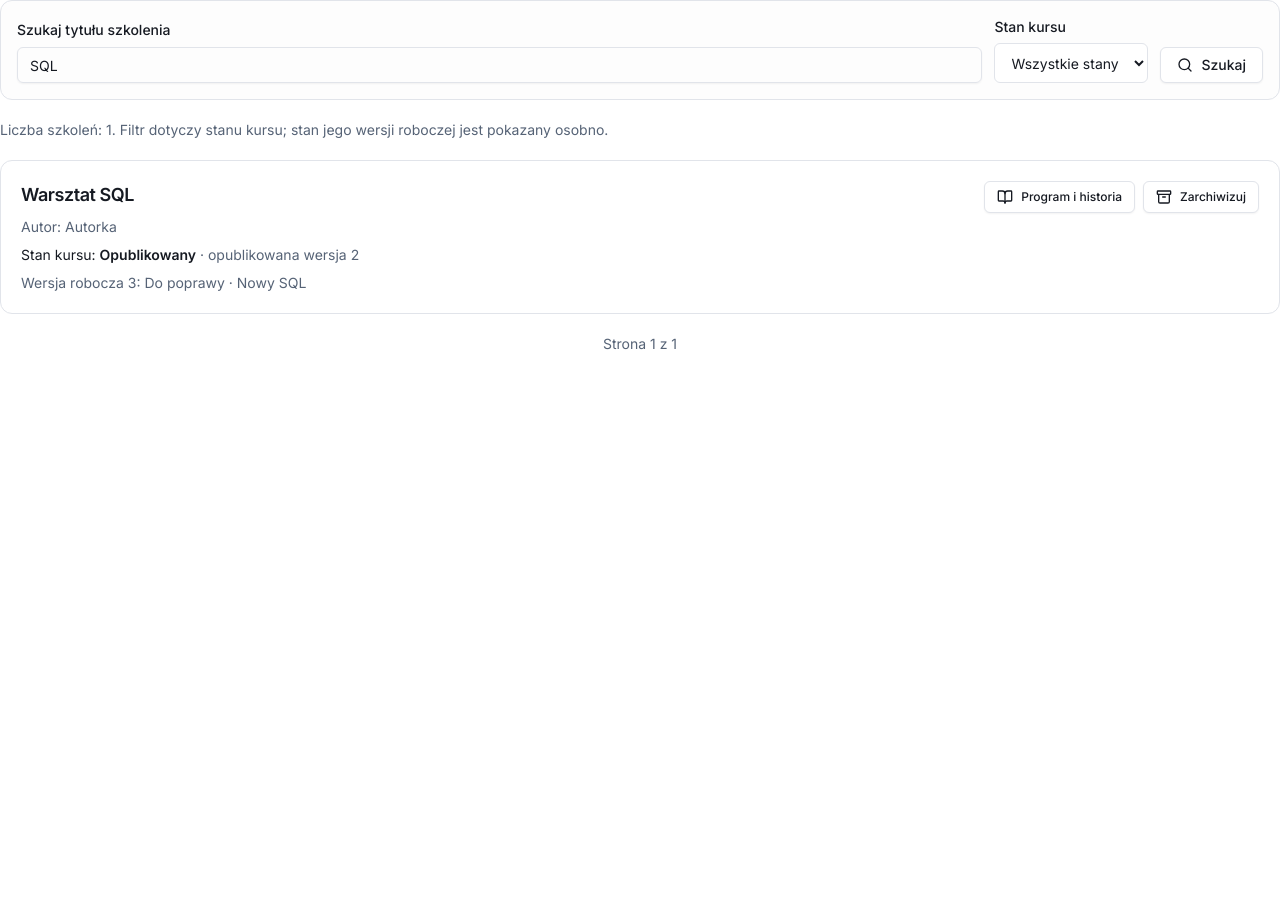
it: administrator course inventory › retains the course and surfaces rejected archive attempts
Click the button "Zarchiwizuj" at [1201, 197], box [1143,181,1259,213]
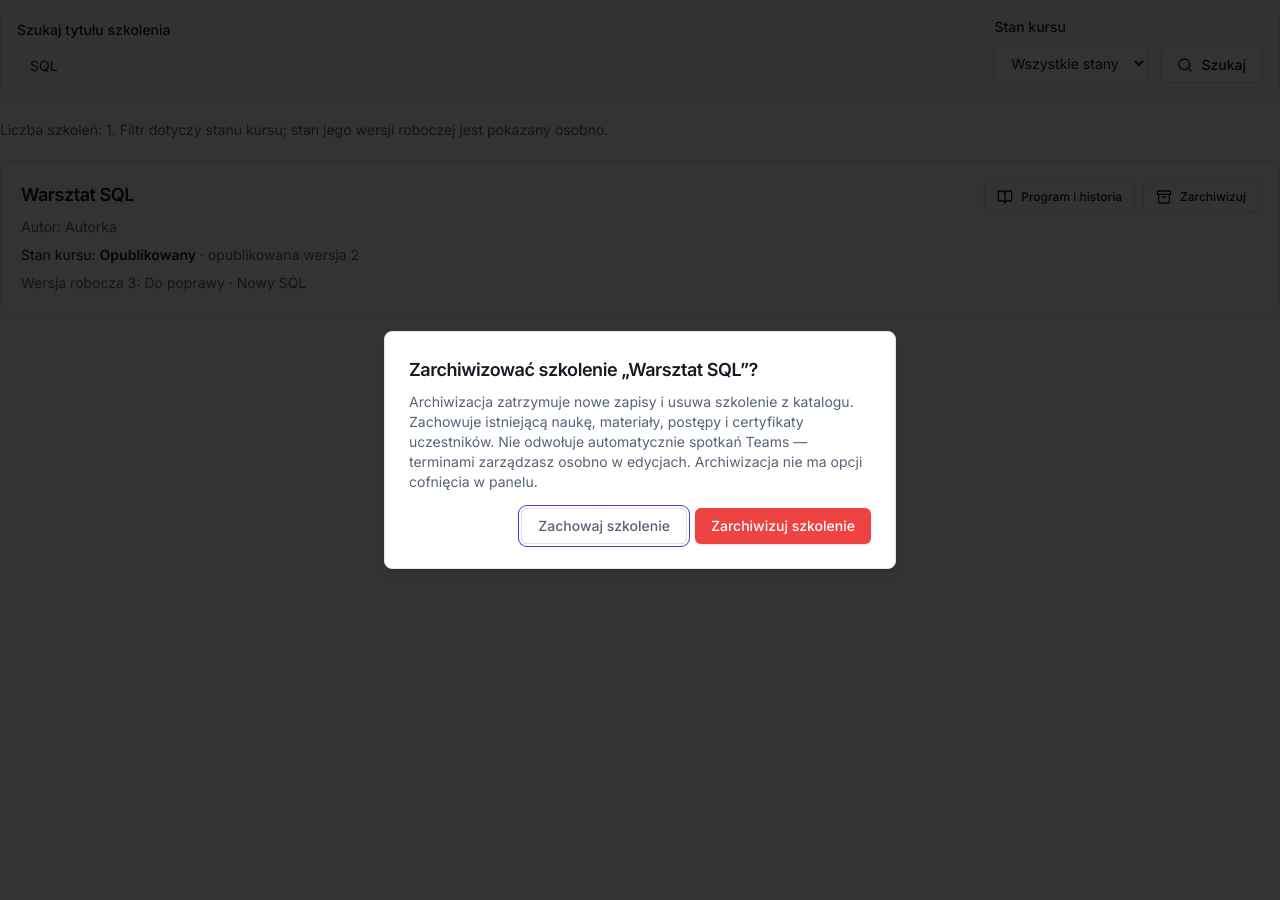
Click the button "Zarchiwizuj szkolenie" at [783, 526], box [695,508,871,544]
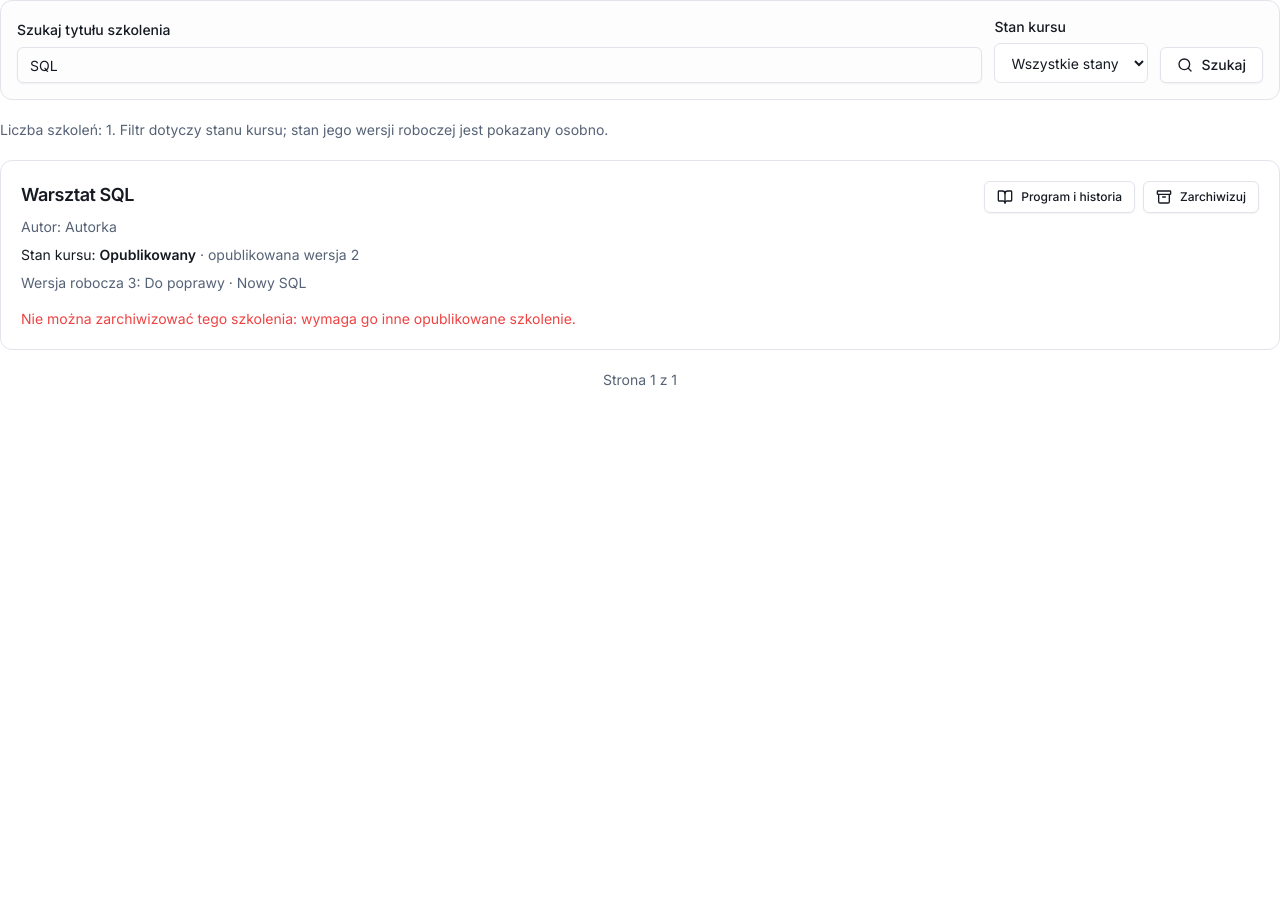
Check: the button "Zarchiwizuj" is enabled, box [1143,181,1259,213]
Check: the message shows "wymaga go inne opublikowane szkolenie", box [21,310,576,327]
